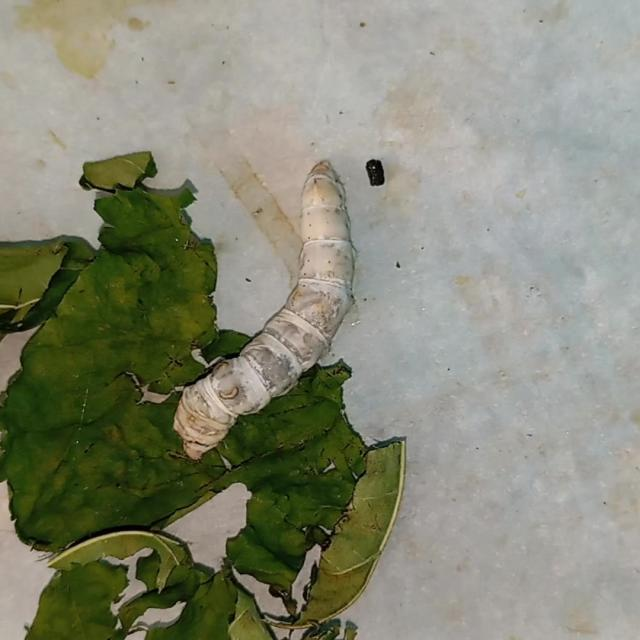Grasserie: (171, 153, 379, 474)
